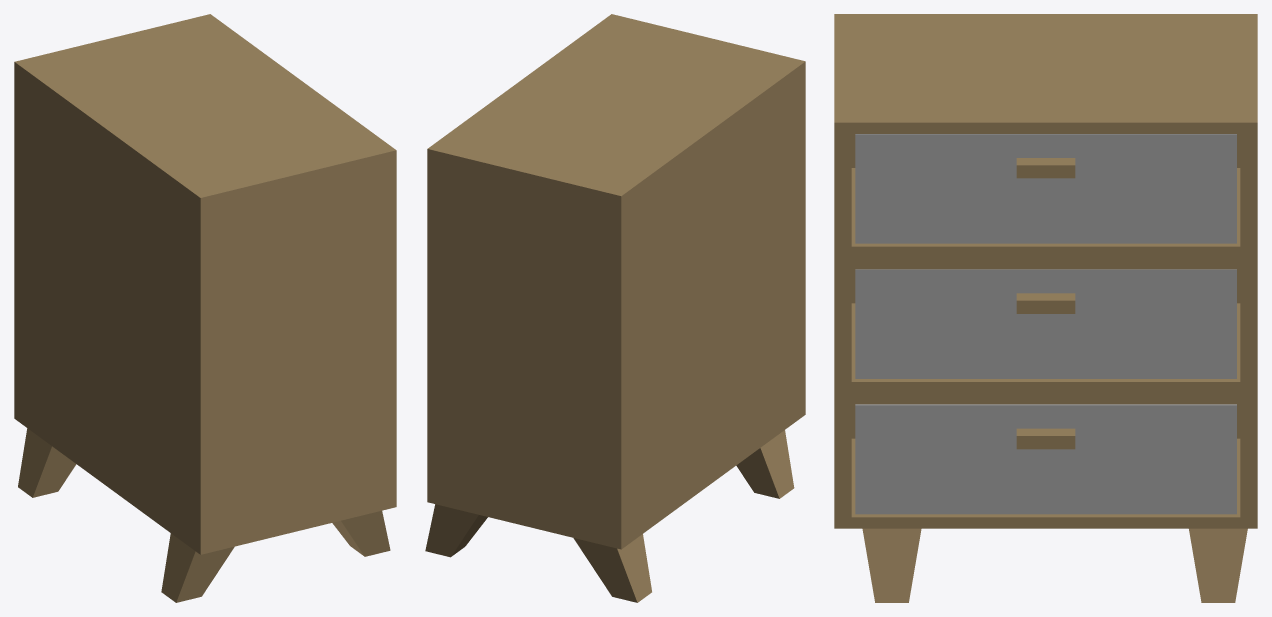
File: M_Nochero.fbx
The picture shows the model from 3 angles, left to right: view 1: azimuth 30°, elevation 25°; view 2: azimuth 150°, elevation 25°; view 3: azimuth 270°, elevation 25°; orthographic projection. The views are drawn at different scales.
Parts seen in each view (by area): view 1: Mueble_Aux_Sala1, Pata (×2), Pata1; view 2: Mueble_Aux_Sala1, Pata1 (×2), Pata; view 3: Mueble_Aux_Sala1, pCube27, pCube29, pCube28, Pata, Pata1.
Part boxes in pixels (left/top/right/bottom): Mueble_Aux_Sala1: left=14, top=14, right=396, bottom=554; Pata (×2): left=18, top=428, right=390, bottom=556; Pata1: left=161, top=533, right=234, bottom=602; Mueble_Aux_Sala1: left=427, top=14, right=805, bottom=549; Pata1 (×2): left=425, top=430, right=794, bottom=557; Pata: left=573, top=534, right=651, bottom=602; Mueble_Aux_Sala1: left=834, top=14, right=1257, bottom=528; pCube27: left=855, top=404, right=1236, bottom=514; pCube29: left=855, top=134, right=1236, bottom=243; pCube28: left=855, top=269, right=1236, bottom=378; Pata: left=862, top=528, right=921, bottom=602; Pata1: left=1189, top=528, right=1247, bottom=602.
Size of the model in its own units: 8.85 by 16.43 by 13.31.
